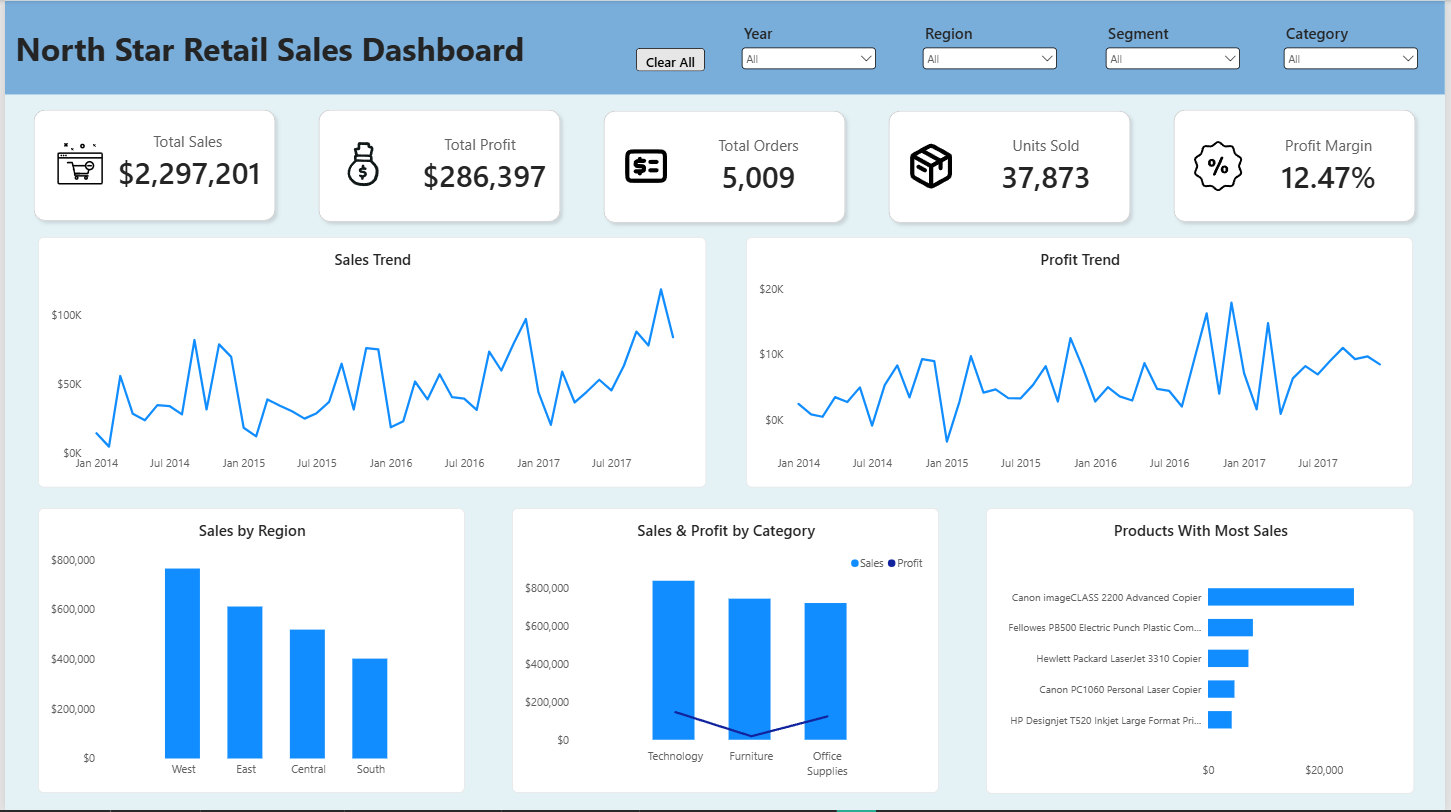

Layout of this report page (visuals, bound fields, positions):
{"tool":"powerbi","page":{"name":"Home","canvas":[1920,1080],"ordinal":0},"visuals":[{"type":"shape","box":[0,1.6,1919.7,124.6],"z":0},{"type":"shape","box":[409.2,137.1,340,167.5],"z":0,"group":"g4"},{"type":"shape","box":[1549.2,137.7,340,167.5],"z":0,"group":"g1"},{"type":"shape","box":[789.2,138,340,167.5],"z":0,"group":"g3"},{"type":"shape","box":[1169.2,138,340,167.5],"z":0,"group":"g2"},{"type":"shape","box":[29.2,138.3,340,166],"z":0,"group":"g5"},{"type":"textbox","box":[0,35,706.7,75],"z":1000},{"type":"cardVisual","fields":{"Data":["_measuers.total_sales"]},"box":[129.9,137.8,226.3,155.7],"z":1000,"group":"g5"},{"type":"cardVisual","fields":{"Data":["_measuers.total_profit"]},"box":[528.8,145.3,208.3,148.3],"z":1000,"group":"g4"},{"type":"cardVisual","fields":{"Data":["_measuers.total_order"]},"box":[892.2,146.3,225,148.3],"z":1000,"group":"g3"},{"type":"cardVisual","fields":{"Data":["_measuers.total_quantity_sold"]},"box":[1280.5,146.3,216.7,148.3],"z":1000,"group":"g2"},{"type":"cardVisual","fields":{"Data":["_measuers.profit_margin"]},"box":[1653.8,146.6,223.3,148.3],"z":1000,"group":"g1"},{"type":"slicer","fields":{"Values":["dim_date.date.Variation.Date Hierarchy.Year"]},"box":[977,29.5,188.5,88.5],"z":2000},{"type":"slicer","fields":{"Values":["dim_customer.region"]},"box":[1218,29.5,188.5,88.5],"z":3000},{"type":"slicer","fields":{"Values":["dim_customer.segment"]},"box":[1462.3,29.5,188.5,88.5],"z":4000},{"type":"slicer","fields":{"Values":["dim_product.category"]},"box":[1700,29.5,188.5,88.5],"z":5000},{"type":"actionButton","box":[841.7,64,91.8,31.1],"z":6000},{"type":"lineChart","title":"Sales Trend","fields":{"Y":["Sum(fact_sales.sales)"],"Category":["dim_date.date.Variation.Date Hierarchy.Year","dim_date.date.Variation.Date Hierarchy.Month","dim_date.date.Variation.Date Hierarchy.Day"]},"box":[43.3,316.2,890.7,333.8],"z":7000},{"type":"lineChart","title":"Profit Trend","fields":{"Y":["Sum(fact_sales.profit)"],"Category":["dim_date.date.Variation.Date Hierarchy.Year","dim_date.date.Variation.Date Hierarchy.Month","dim_date.date.Variation.Date Hierarchy.Day"]},"box":[988.6,316.2,889.1,333.8],"z":8000},{"type":"columnChart","title":"Sales by Region","fields":{"Y":["Sum(fact_sales.sales)"],"Category":["dim_customer.region"]},"box":[44,677.3,569.3,380],"z":9000},{"type":"lineClusteredColumnComboChart","title":"Sales & Profit by Category","fields":{"Category":["dim_product.category"],"Y":["Sum(fact_sales.sales)"],"Y2":["Sum(fact_sales.profit)"]},"box":[676,677.3,569.3,380],"z":10000},{"type":"clusteredBarChart","title":"Products With Most Sales","fields":{"Category":["dim_product.product_name"],"Y":["Sum(fact_sales.profit)"]},"box":[1308,677.3,570.7,381.3],"z":11000},{"type":"group","id":"g1","title":"Total Products Sold Card","box":[1549.2,137.7,340,167.5],"z":12000},{"type":"group","id":"g2","title":"Total Products Sold Card","box":[1169.2,138,340,167.5],"z":13000},{"type":"group","id":"g3","title":"Total Orders Card","box":[789.2,138,340,167.5],"z":14000},{"type":"group","id":"g4","title":"Total Profit Card","box":[409.2,137.1,340,167.5],"z":15000},{"type":"group","id":"g5","title":"Total Sales Card","box":[29.2,137.8,340,166.5],"z":16000},{"type":"image","box":[66.7,185,66.7,66.7],"z":17000},{"type":"image","box":[443.3,185,66.7,66.7],"z":18000},{"type":"image","box":[821.7,188.3,66.7,66.7],"z":19000},{"type":"image","box":[1201.7,188.3,66.7,66.7],"z":20000},{"type":"image","box":[1583.3,188.3,66.7,66.7],"z":21000}]}

Visuals, with their boxes in screenshot pixels (x1, y1, x2, y2), scaled from the page's 1920x1080 canvas onto the 1451x812 screenshot:
shape: [0,1,1450,95]
shape: [309,103,566,229]
shape: [1171,104,1428,229]
shape: [596,104,853,230]
shape: [884,104,1141,230]
shape: [22,104,279,229]
textbox: [0,26,534,83]
cardVisual - _measuers.total_sales: [98,104,269,221]
cardVisual - _measuers.total_profit: [400,109,557,221]
cardVisual - _measuers.total_order: [674,110,844,221]
cardVisual - _measuers.total_quantity_sold: [968,110,1131,221]
cardVisual - _measuers.profit_margin: [1250,110,1419,222]
slicer - dim_date.date.Variation.Date Hierarchy.Year: [738,22,881,89]
slicer - dim_customer.region: [920,22,1063,89]
slicer - dim_customer.segment: [1105,22,1248,89]
slicer - dim_product.category: [1285,22,1427,89]
actionButton: [636,48,705,72]
"Sales Trend" lineChart: [33,238,706,489]
"Profit Trend" lineChart: [747,238,1419,489]
"Sales by Region" columnChart: [33,509,463,795]
"Sales & Profit by Category" lineClusteredColumnComboChart: [511,509,941,795]
"Products With Most Sales" clusteredBarChart: [988,509,1420,796]
"Total Products Sold Card" group: [1171,104,1428,229]
"Total Products Sold Card" group: [884,104,1141,230]
"Total Orders Card" group: [596,104,853,230]
"Total Profit Card" group: [309,103,566,229]
"Total Sales Card" group: [22,104,279,229]
image: [50,139,101,189]
image: [335,139,385,189]
image: [621,142,671,192]
image: [908,142,959,192]
image: [1197,142,1247,192]
